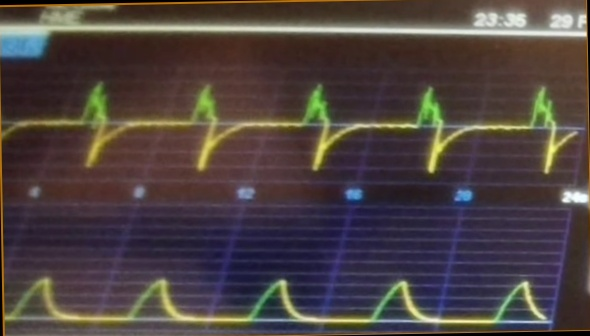Accumulation Flow: (4, 71, 576, 180)
Volume: (6, 245, 547, 330)
